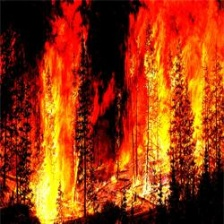fire: (123, 21, 222, 205), (21, 40, 97, 223)
